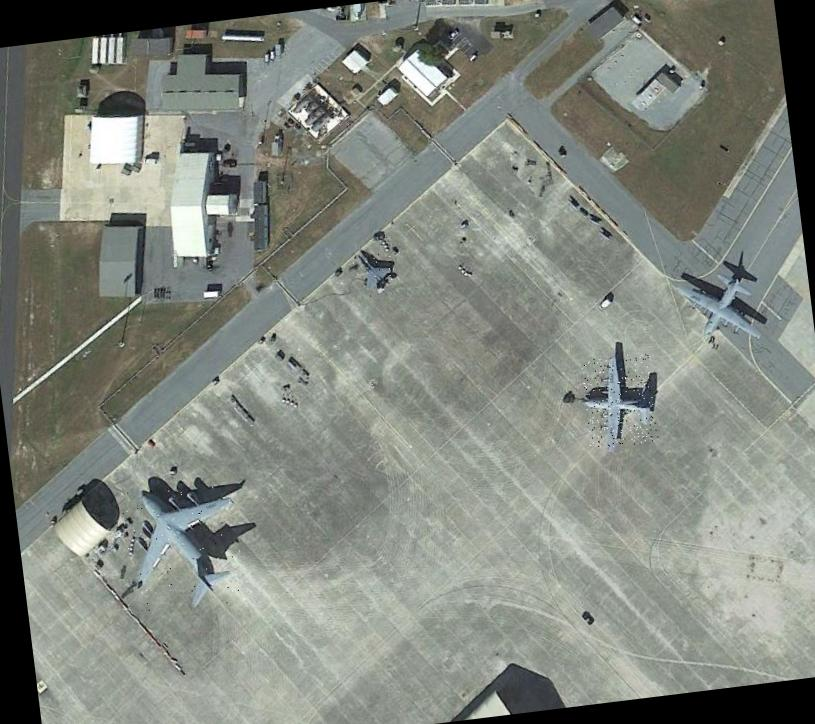A13: (352, 248, 398, 298)
A2: (579, 351, 658, 450), (673, 267, 765, 350)
A3: (120, 479, 246, 614)
